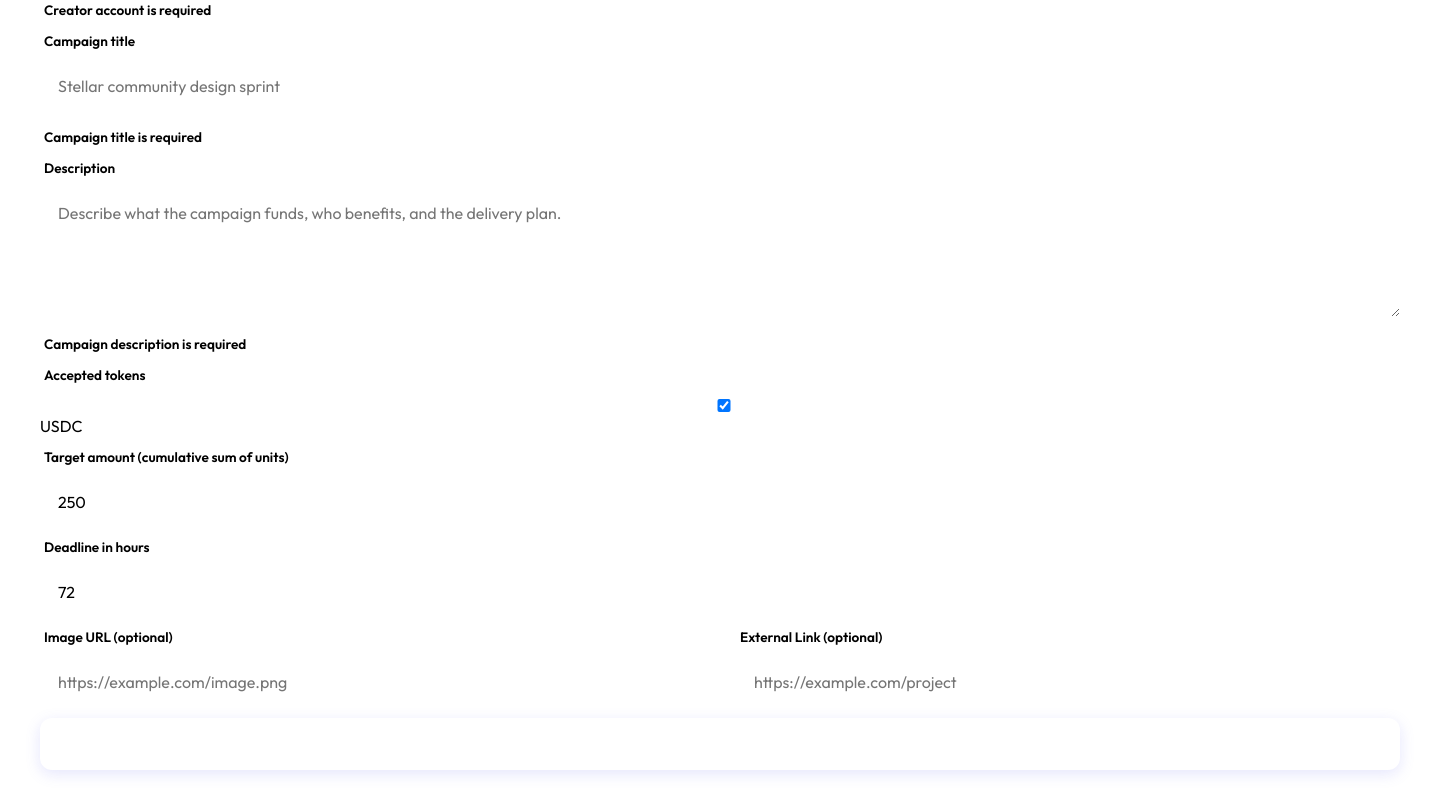
Test: CreateCampaignForm › Field Validation - Deadline Hours › shows error for deadline below minimum
(page scrolled)
Replace the text in the number field labelled "Deadline in hours" with "0.5": coordinates (720, 592) top-left (40, 568), bottom-right (1400, 616)
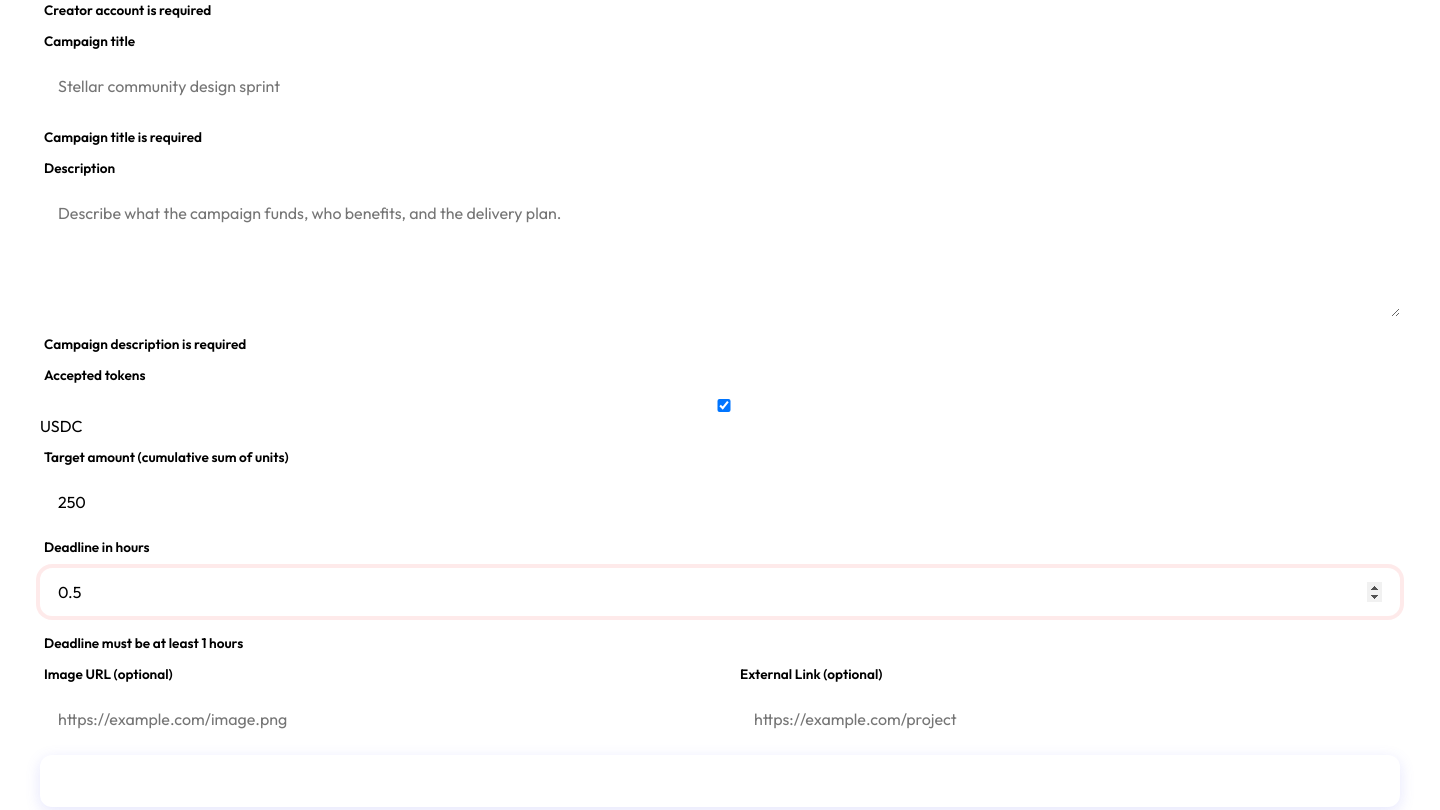
Check: the text "Deadline must be at least 1 hours" is shown, box top-left (44, 634), bottom-right (243, 652)
